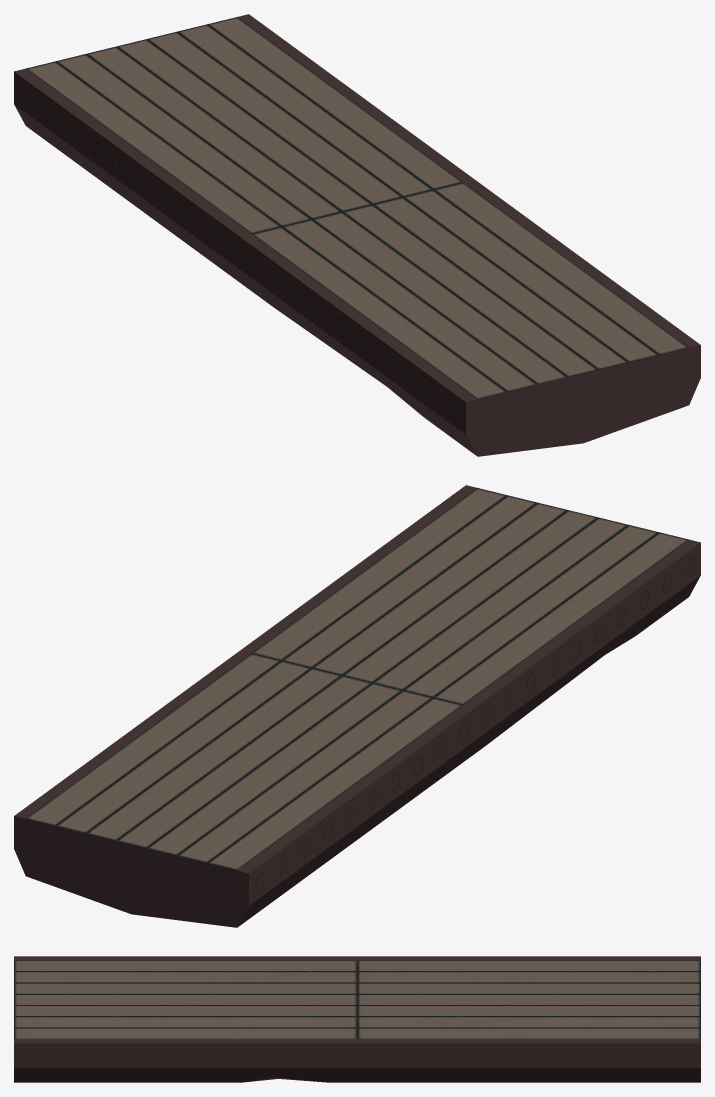
File: SW_ENV_EL_Station_Mezzanine_Walkway_10m.fbx
3 views of the same model, one above another, from view 1: azimuth 30°, elevation 25°; view 2: azimuth 150°, elevation 25°; view 3: azimuth 270°, elevation 25° (orthographic). The views are drawn at different scales.
Parts seen in each view (by area): view 1: SW_ENV_EL_Station_Mezzanine_Walkway_10m; view 2: SW_ENV_EL_Station_Mezzanine_Walkway_10m; view 3: SW_ENV_EL_Station_Mezzanine_Walkway_10m.
Part boxes in pixels (bbox=[...]): SW_ENV_EL_Station_Mezzanine_Walkway_10m: bbox=[14, 14, 700, 456]; SW_ENV_EL_Station_Mezzanine_Walkway_10m: bbox=[14, 485, 700, 927]; SW_ENV_EL_Station_Mezzanine_Walkway_10m: bbox=[14, 956, 700, 1082].
Bounding box in the file's own units: 300 × 85 × 1000.
